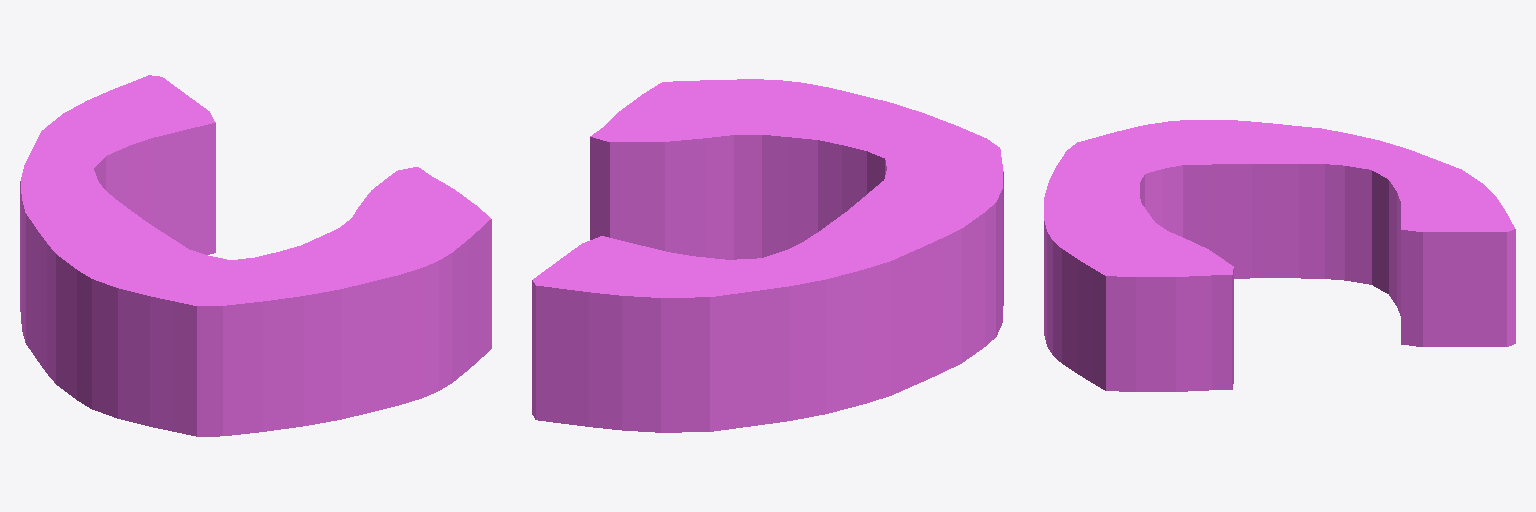
URDF robot description (c_shape):
<?xml version="1.0" ?>
<robot name="c_shape">
  <link name="cshapeLink">
    <inertial>
      <origin rpy="0 0 0" xyz="0 0 0"/>
       <mass value="4.0"/>
       <inertia ixx="1" ixy="0" ixz="0" iyy="1" iyz="0" izz="1"/>
    </inertial>
    <visual>
      <origin rpy="0 0 0" xyz="0 0 0"/>
      <geometry>
		    <mesh filename="c_shape.obj" scale="1 1 1"/>
      </geometry>
       <material name="white">
        <color rgba="1 0.5 1 1"/>
      </material>
    </visual>
    <collision>
      <origin rpy="0 0 0" xyz="0 0 0"/>
      <geometry>
	 	    <mesh filename="c_shape_cvx_simple.obj" scale="1 1 1"/>
      </geometry>
    </collision>
  </link>
</robot>

--- Facts derived from the render (not from the file) ---
The picture shows the robot from 3 angles, left to right: view 1: azimuth 30°, elevation 25°; view 2: azimuth 150°, elevation 25°; view 3: azimuth 270°, elevation 25°; orthographic projection.
Robot: c_shape — 1 links, 0 joints (none); root link cshapeLink; default pose: every joint at zero.
Links seen in each view (by area): view 1: cshapeLink; view 2: cshapeLink; view 3: cshapeLink.
Link boxes in pixels (x1,y1,x2,y2): cshapeLink: (20, 75, 491, 436); cshapeLink: (532, 79, 1003, 432); cshapeLink: (1044, 120, 1515, 391).
Bounding box of the posed robot: 0.1466 × 0.1857 × 0.05 m (x, y, z).
Meshes: 1 distinct files referenced, 1 mesh visuals loaded (1 OBJ).